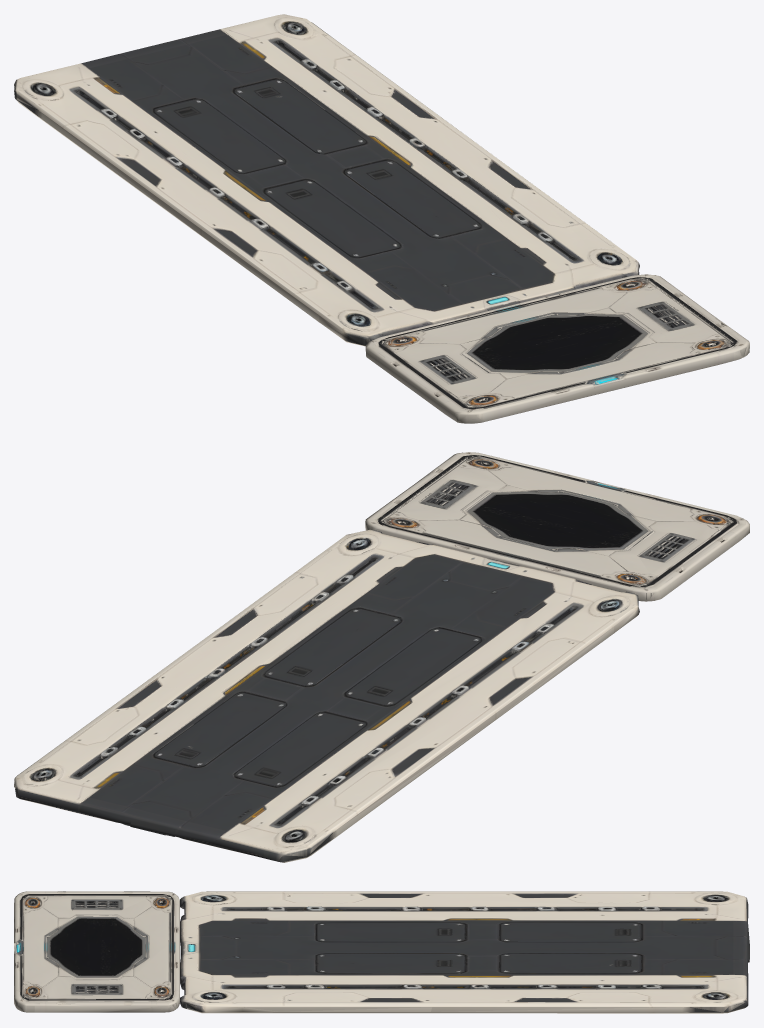
File: spacecraft-floor-repair.glb
The picture shows the model from 3 angles, top to bottom: view 1: azimuth 30°, elevation 25°; view 2: azimuth 150°, elevation 25°; view 3: azimuth 270°, elevation 25°; orthographic projection. The views are drawn at different scales.
Parts seen in each view (by area): view 1: rear-cabin-floor_material_repair, airlock-floor_material_repair; view 2: rear-cabin-floor_material_repair, airlock-floor_material_repair; view 3: rear-cabin-floor_material_repair, airlock-floor_material_repair.
Boxes of the visible parts, bbox=[...] form: rear-cabin-floor_material_repair: bbox=[14, 14, 639, 346]; airlock-floor_material_repair: bbox=[365, 274, 749, 423]; rear-cabin-floor_material_repair: bbox=[14, 529, 639, 862]; airlock-floor_material_repair: bbox=[365, 452, 749, 601]; rear-cabin-floor_material_repair: bbox=[180, 891, 749, 1013]; airlock-floor_material_repair: bbox=[14, 891, 179, 1012].
Bounding box in the file's own units: 3.6 × 0.16 × 9.76.
2 materials, 2 textured.
